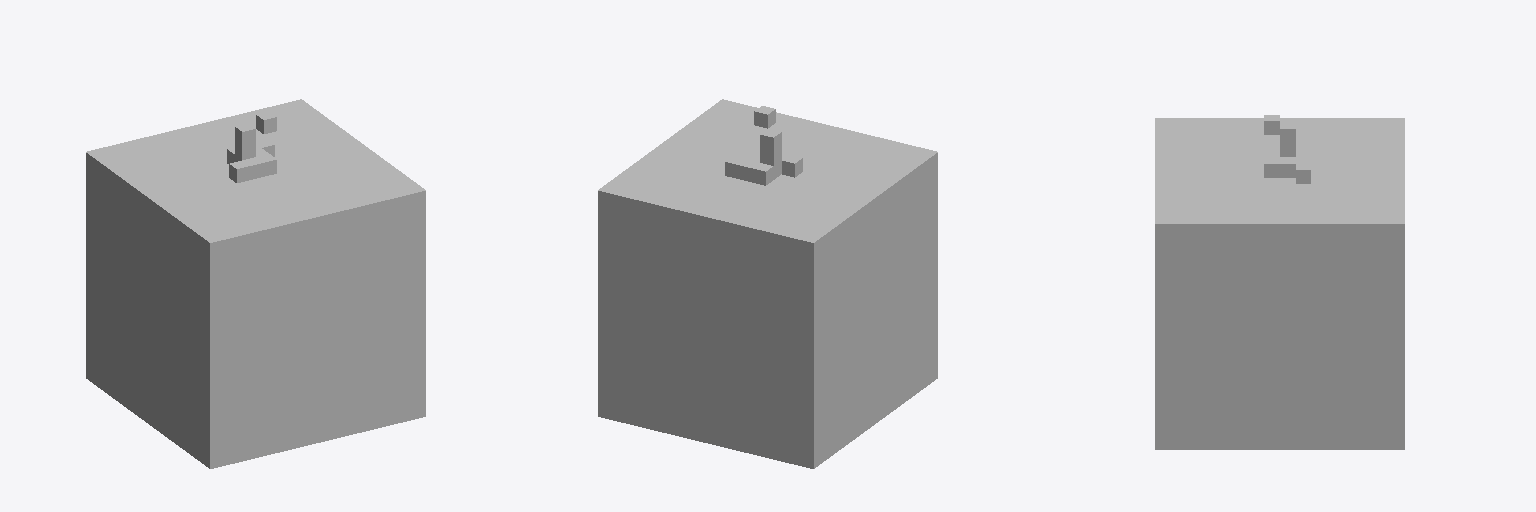
The model's file is melon_block.obj.
The picture shows the model from 3 angles: view 1: azimuth 30°, elevation 25°; view 2: azimuth 150°, elevation 25°; view 3: azimuth 270°, elevation 25°; orthographic projection.
Parts seen in each view (by area): view 1: Melon_block; view 2: Melon_block; view 3: Melon_block.
Part boxes in pixels (left/top/right/bottom): Melon_block: left=86, top=99, right=425, bottom=468; Melon_block: left=598, top=99, right=937, bottom=468; Melon_block: left=1155, top=115, right=1404, bottom=449.
Size of the model in its own units: 16 by 20 by 16.